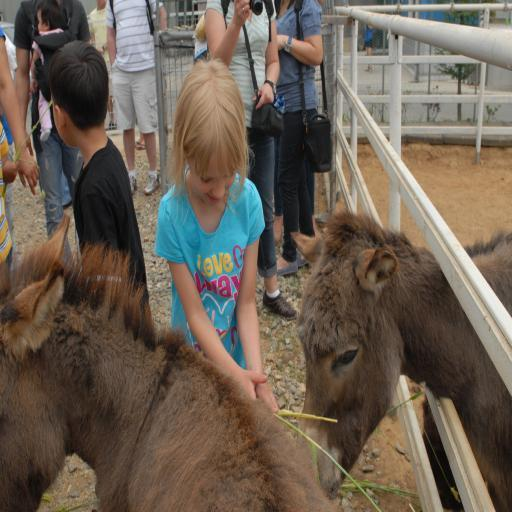horse: (0, 210, 336, 512), (290, 212, 512, 512)
